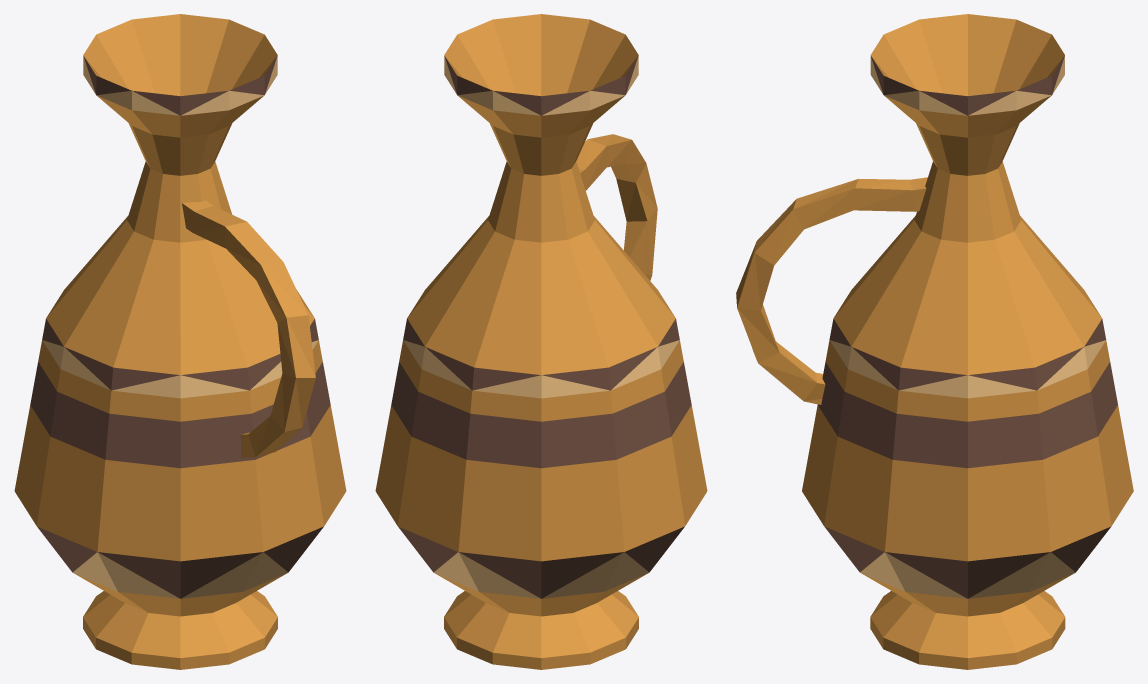
File: Modelo7.gltf
3 renders of one model, left to right at view 1: azimuth 30°, elevation 25°; view 2: azimuth 150°, elevation 25°; view 3: azimuth 270°, elevation 25°, orthographic.
Visible parts, largest first — view 1: Node; view 2: Node; view 3: Node.
Boxes of the visible parts, left/top/right/bottom form: Node: left=14, top=14, right=346, bottom=669; Node: left=375, top=14, right=707, bottom=669; Node: left=736, top=14, right=1133, bottom=669.
Size of the model in its own units: 0.7658 by 1.46 by 0.9174.
